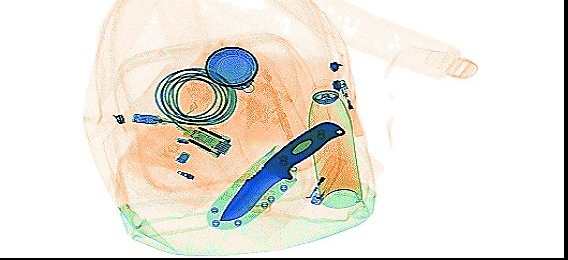knife: (204, 120, 345, 229)
lighter: (305, 154, 347, 205), (334, 77, 364, 138)
pressure: (305, 77, 363, 209)
